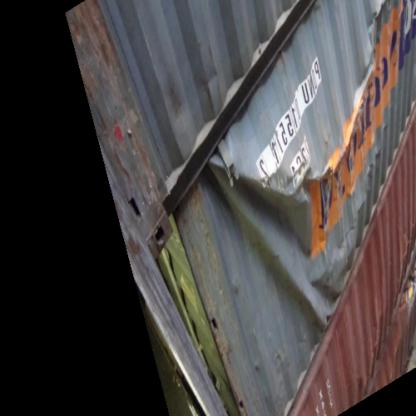Damage: (210, 156, 354, 334), (323, 5, 408, 158)
